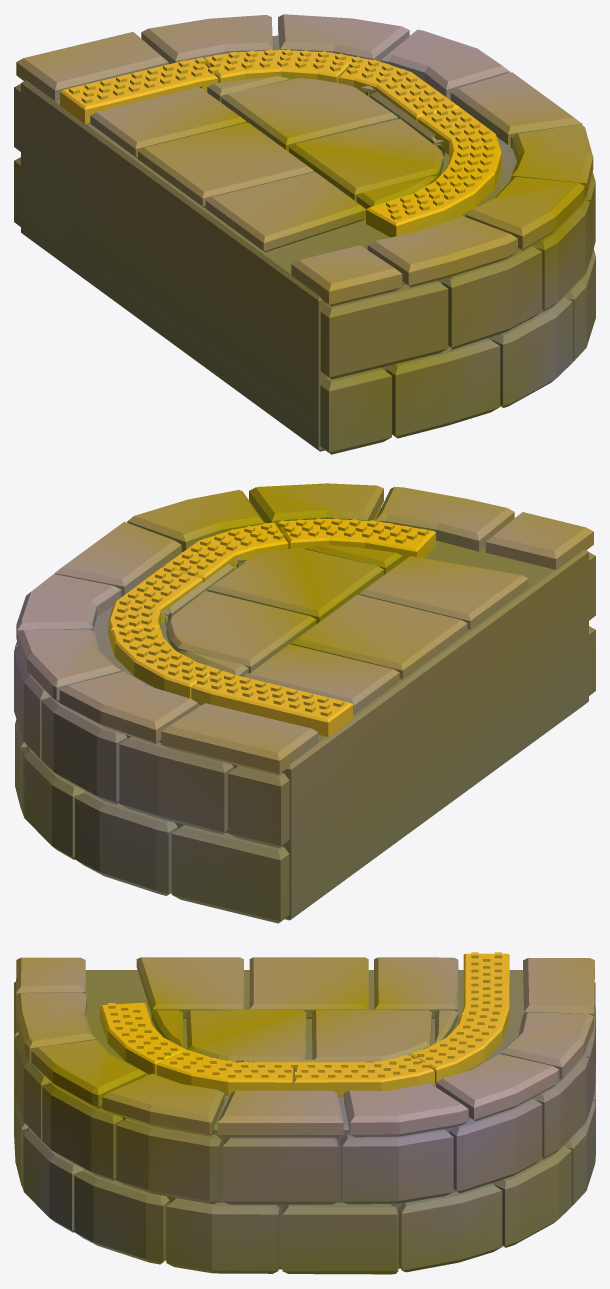
Rendered from Platform_EndCap_End.glb.
3 views of the same model, one above another, from view 1: azimuth 30°, elevation 25°; view 2: azimuth 150°, elevation 25°; view 3: azimuth 270°, elevation 25° (orthographic). The views are drawn at different scales.
Visible parts, largest first — view 1: Platform_EndCap_End; view 2: Platform_EndCap_End; view 3: Platform_EndCap_End.
Boxes of the visible parts, left/top/right/bottom form: Platform_EndCap_End: left=14, top=14, right=595, bottom=454; Platform_EndCap_End: left=14, top=483, right=595, bottom=923; Platform_EndCap_End: left=14, top=952, right=595, bottom=1274.
Size of the model in its own units: 2.34 by 1.08 by 3.49.
